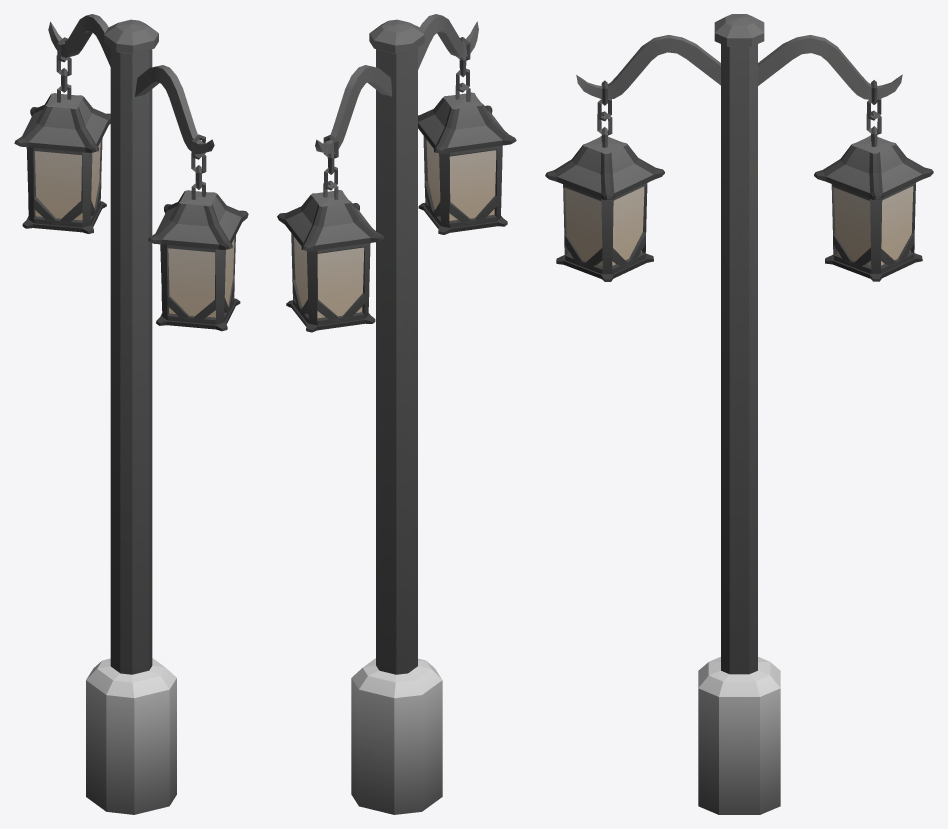
The model's file is Lantern_MetalDouble.fbx.
3 renders of one model, left to right at view 1: azimuth 30°, elevation 25°; view 2: azimuth 150°, elevation 25°; view 3: azimuth 270°, elevation 25°, orthographic.
Parts seen in each view (by area): view 1: Lantern_MetalDouble; view 2: Lantern_MetalDouble; view 3: Lantern_MetalDouble.
Part boxes in pixels (x1=…): Lantern_MetalDouble: x1=14, y1=14, x2=248, y2=814; Lantern_MetalDouble: x1=277, y1=14, x2=516, y2=814; Lantern_MetalDouble: x1=545, y1=14, x2=933, y2=814.
Bounding box in the file's own units: 0.6445 × 4.6 × 2.08.
